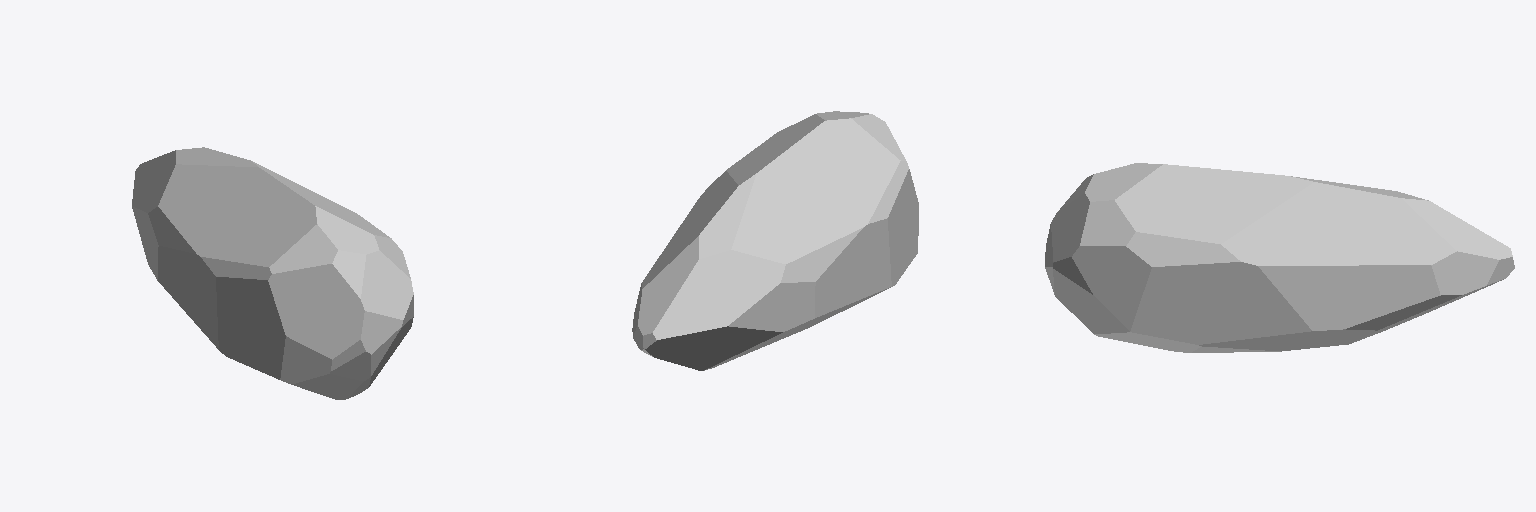
Rendered from block_crystal.obj.
3 views of the same model, side by side, from view 1: azimuth 30°, elevation 25°; view 2: azimuth 150°, elevation 25°; view 3: azimuth 270°, elevation 25° (orthographic).
Parts seen in each view (by area): view 1: Cylinder.002; view 2: Cylinder.002; view 3: Cylinder.002.
Part boxes in pixels (x1,y1,x2,y2): Cylinder.002: (132, 147, 413, 399); Cylinder.002: (632, 111, 918, 370); Cylinder.002: (1045, 163, 1514, 352).
Size of the model in its own units: 0.2964 by 0.3253 by 0.7499.